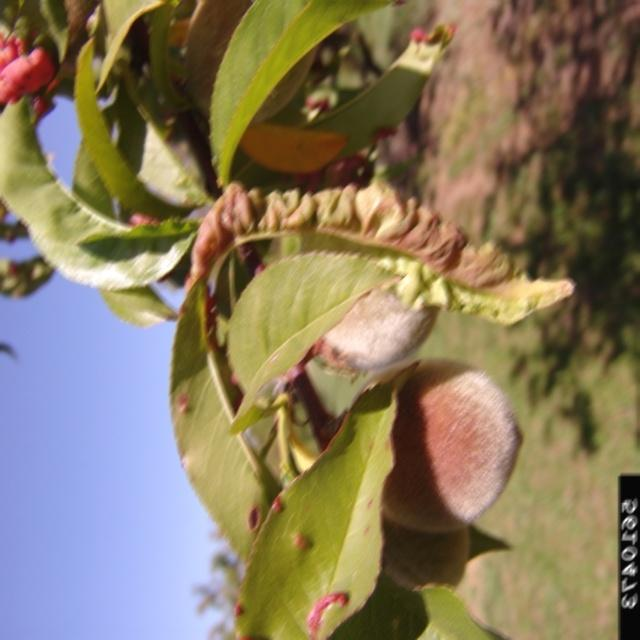leaf_curl: (177, 145, 563, 303)
